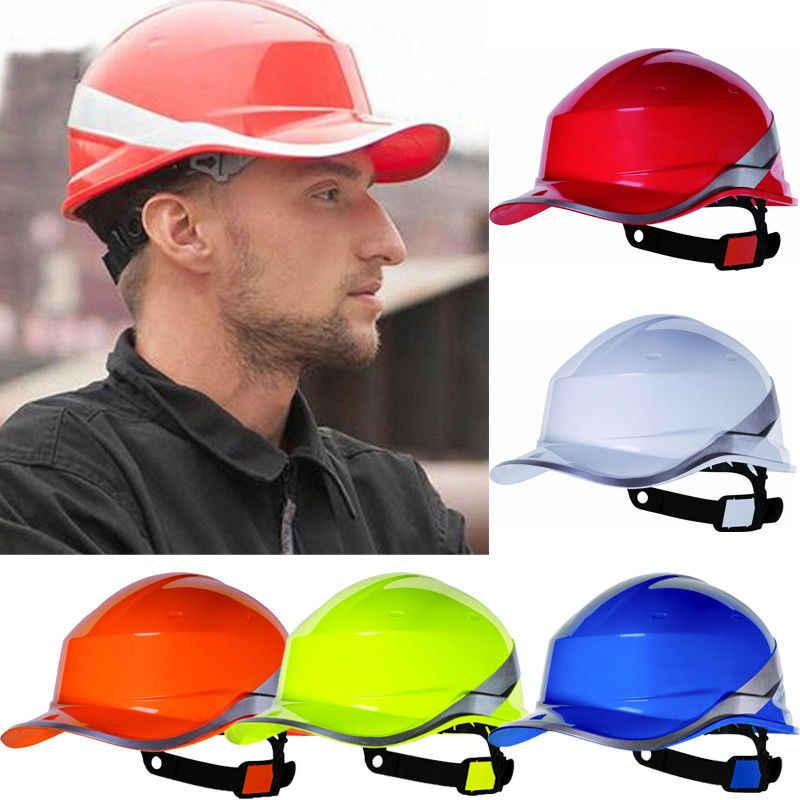helmet: (53, 1, 399, 208), (494, 48, 800, 227), (516, 569, 796, 759), (236, 570, 518, 757), (3, 575, 296, 750), (494, 314, 784, 489)
